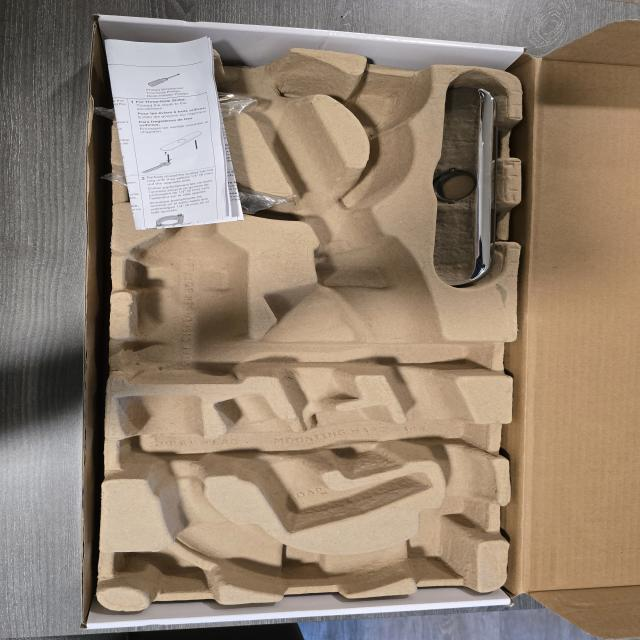1m: (120, 46, 495, 595)
2m: (208, 393, 435, 534)
3m: (129, 202, 248, 385)
4: (434, 87, 495, 285)
5m: (351, 78, 418, 131)
6o: (95, 80, 260, 152)
7o: (102, 154, 293, 216)
8: (103, 36, 245, 231)
